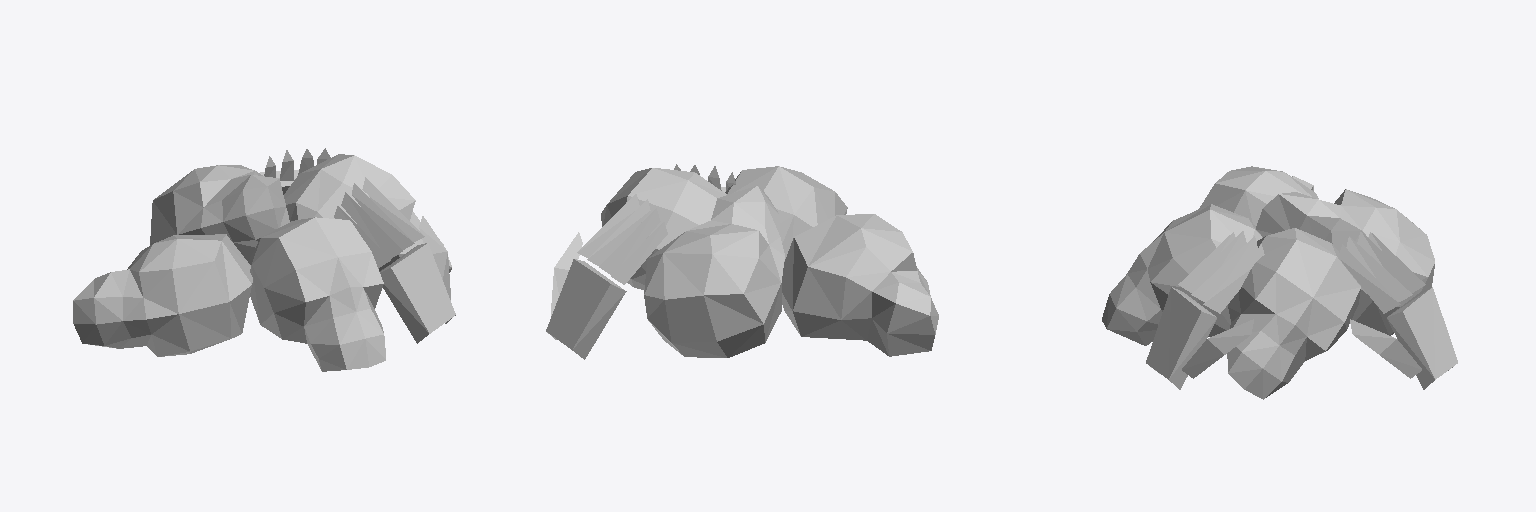
The model's file is skull_07.obj.
3 views of the same model, side by side, from view 1: azimuth 30°, elevation 25°; view 2: azimuth 150°, elevation 25°; view 3: azimuth 270°, elevation 25° (orthographic).
Parts seen in each view (by area): view 1: skull_07; view 2: skull_07; view 3: skull_07.
Boxes of the visible parts, x1,y1,x2,y2 form: skull_07: [73, 148, 455, 371]; skull_07: [546, 164, 938, 359]; skull_07: [1102, 166, 1457, 399].
Size of the model in its own units: 86.23 by 32.24 by 76.12.